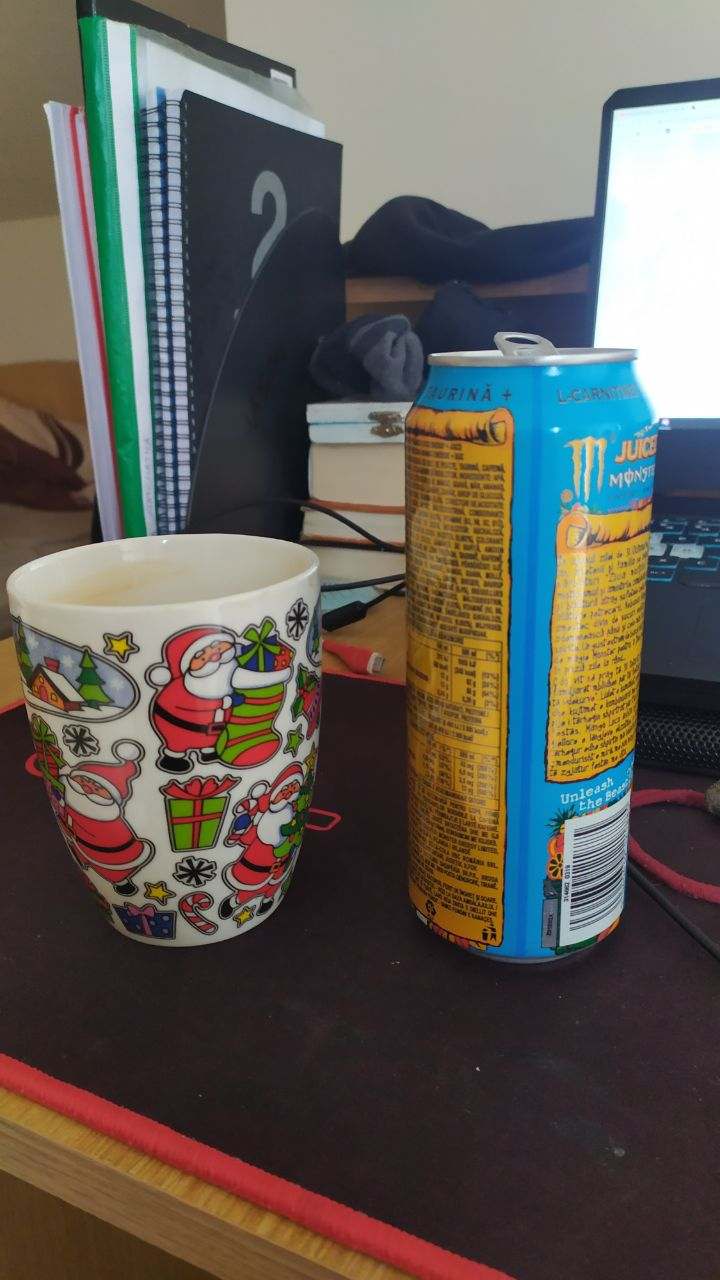Can: (393, 337, 665, 980)
